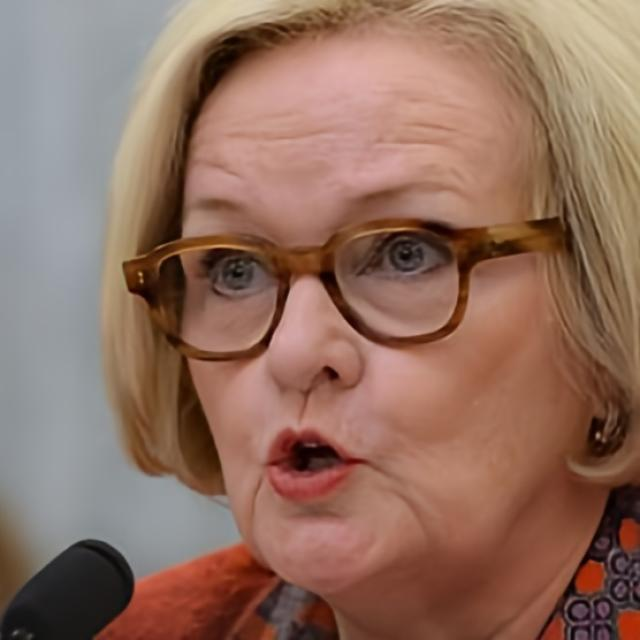surprise: (173, 47, 582, 591)
